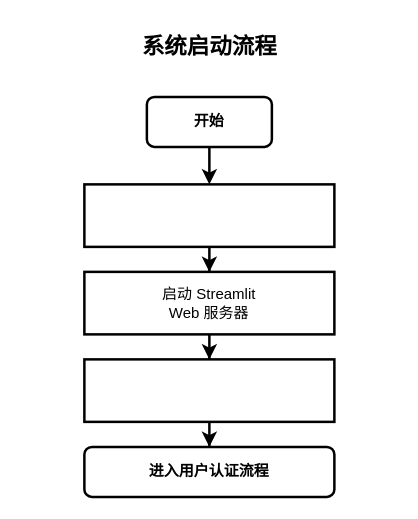
The diagram is 418 pixels wide and 519 high, and some of its shapes have lost their labels. Here are the shapes that lost their labels. From the top down, the centre of each, then its label:
At [208,215]: "运行 main.py".
At [208,390]: "初始化会话状态 init_session_state()".
